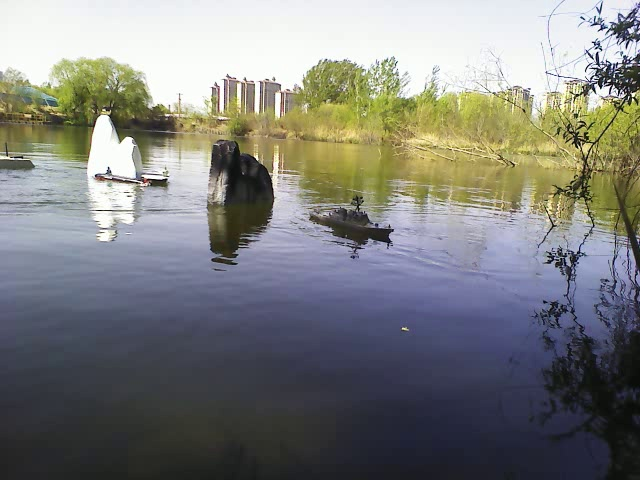aircraft_carrier: (141, 159, 176, 187)
boat: (4, 144, 42, 176)
iceberg: (77, 112, 146, 181)
rock: (198, 135, 280, 211)
submarine: (93, 169, 148, 186)
warship: (309, 194, 394, 241)
